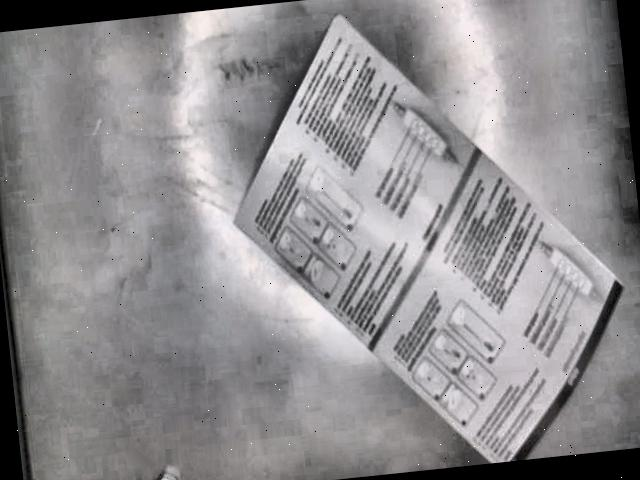Paper: (232, 14, 628, 463)
